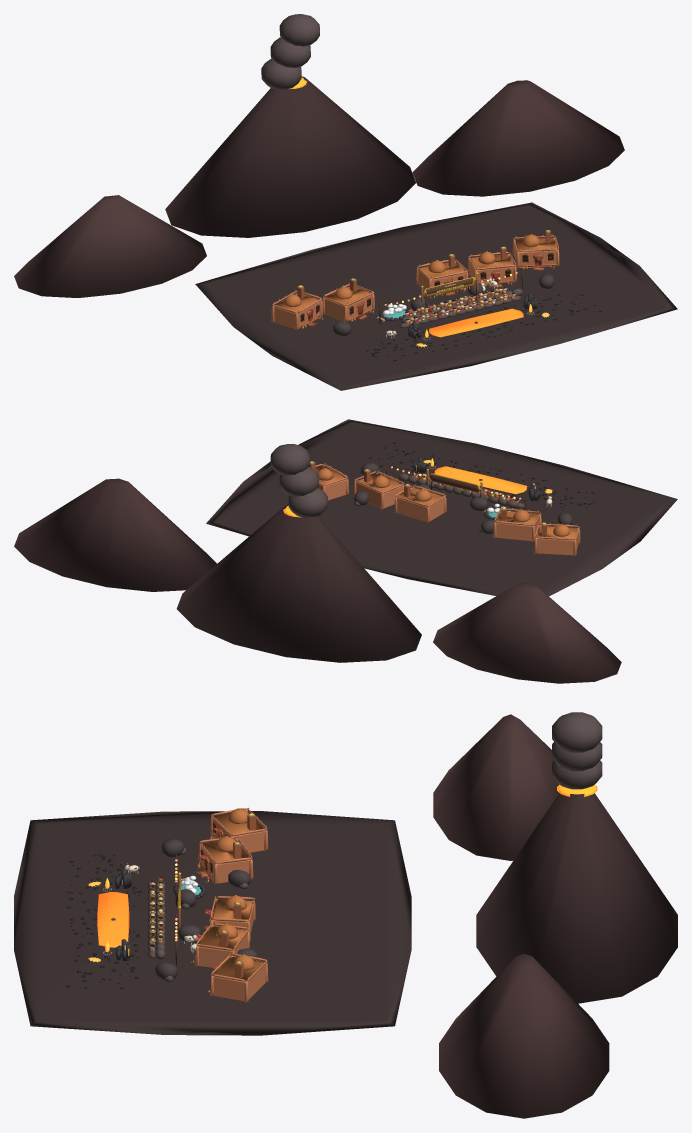
The model's file is brasaviva.glb.
3 renders of one model, top to bottom at view 1: azimuth 30°, elevation 25°; view 2: azimuth 150°, elevation 25°; view 3: azimuth 270°, elevation 25°, orthographic. The views are drawn at different scales.
Parts seen in each view (by area): view 1: estatico 0, estatico 2, estatico 1, vivo_vapor_58 malla, vivo_vapor_56 malla, vivo_vapor_57 malla; view 2: estatico 0, estatico 2, estatico 1, vivo_vapor_58 malla, vivo_vapor_56 malla, vivo_vapor_57 malla; view 3: estatico 2, estatico 0, estatico 1, vivo_vapor_58 malla, vivo_vapor_57 malla, vivo_vapor_56 malla.
Part boxes in pixels (x1=…): estatico 0: x1=14, y1=76, x2=624, y2=347; estatico 2: x1=195, y1=202, x2=677, y2=390; estatico 1: x1=322, y1=230, x2=602, y2=361; vivo_vapor_58 malla: x1=279, y1=14, x2=319, y2=46; vivo_vapor_56 malla: x1=261, y1=58, x2=301, y2=89; vivo_vapor_57 malla: x1=270, y1=37, x2=310, y2=68; estatico 0: x1=14, y1=461, x2=621, y2=683; estatico 2: x1=206, y1=419, x2=677, y2=596; estatico 1: x1=309, y1=442, x2=595, y2=541; vivo_vapor_58 malla: x1=270, y1=444, x2=309, y2=475; vivo_vapor_56 malla: x1=288, y1=487, x2=327, y2=517; vivo_vapor_57 malla: x1=279, y1=466, x2=318, y2=496; estatico 2: x1=14, y1=811, x2=411, y2=1035; estatico 0: x1=86, y1=714, x2=677, y2=1118; estatico 1: x1=66, y1=836, x2=268, y2=1002; vivo_vapor_58 malla: x1=552, y1=712, x2=602, y2=752; vivo_vapor_57 malla: x1=552, y1=742, x2=602, y2=771; vivo_vapor_56 malla: x1=552, y1=760, x2=602, y2=789.
Size of the model in its own units: 132 by 36.83 by 100.
